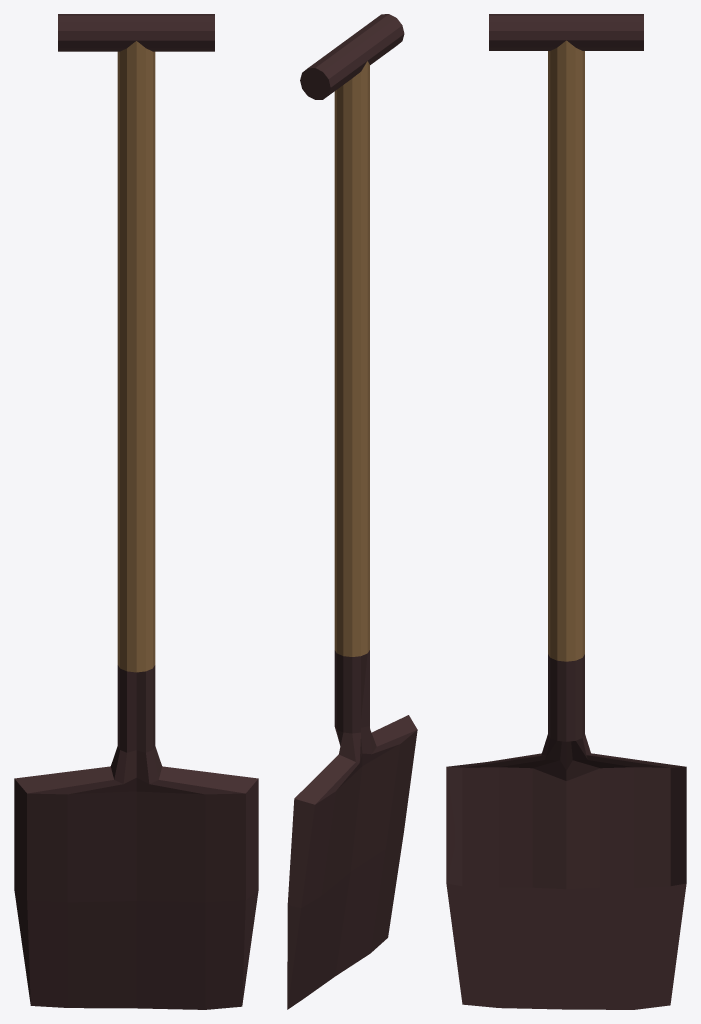
Rendered from Spade.fbx.
3 views of the same model, side by side, from view 1: azimuth 90°, elevation 25°; view 2: azimuth 150°, elevation 25°; view 3: azimuth 270°, elevation 25° (orthographic). The views are drawn at different scales.
Parts seen in each view (by area): view 1: Shovel; view 2: Shovel; view 3: Shovel.
Boxes of the visible parts, bbox=[...] form: Shovel: bbox=[14, 14, 258, 1009]; Shovel: bbox=[287, 14, 417, 1009]; Shovel: bbox=[446, 14, 686, 1009].
Bounding box in the file's own units: 6.56 × 176 × 38.81.
